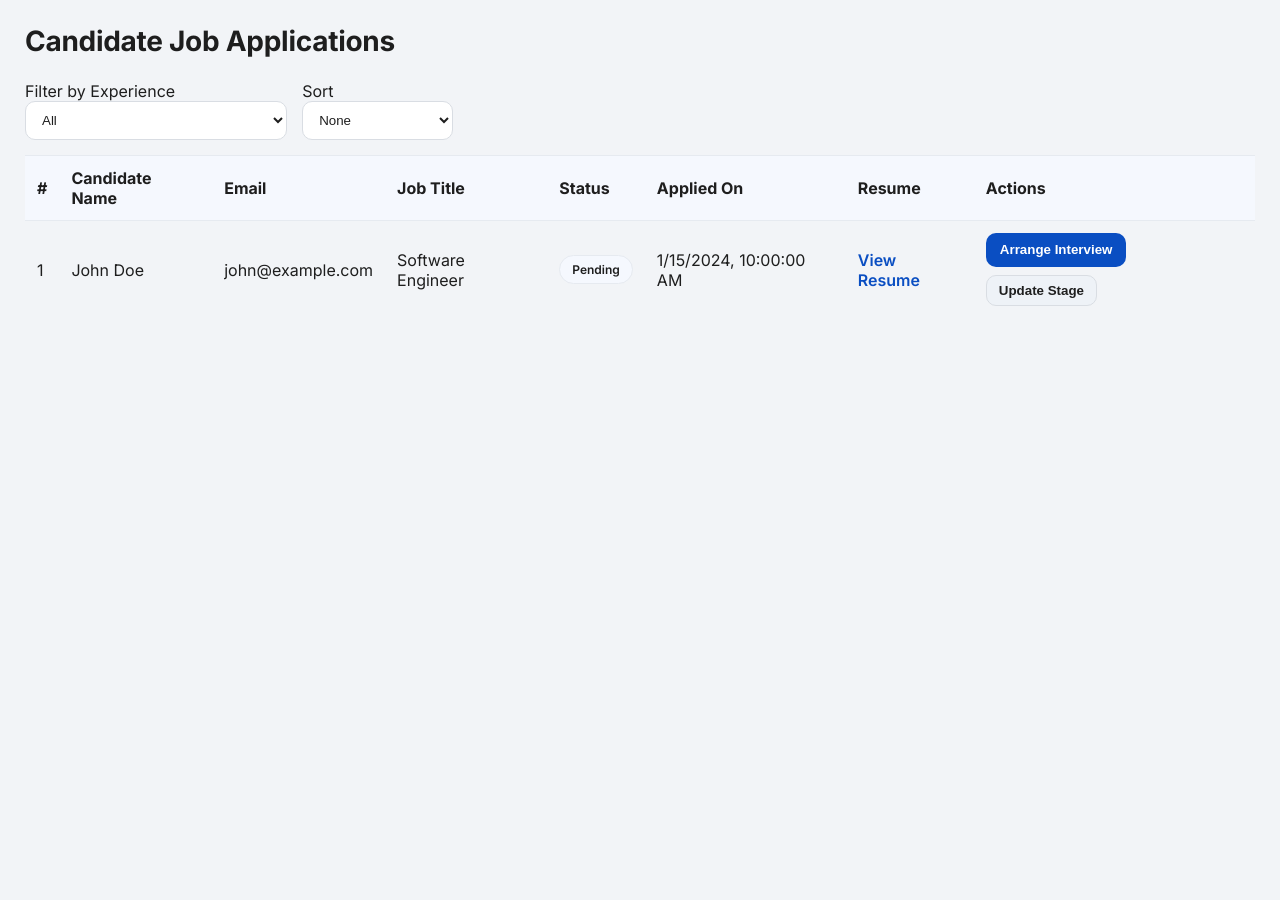
Test case: JobApplications Component › opens schedule interview modal
This screenshot has width=1280, height=900.
Click the button "Arrange Interview".
click(1056, 250)  # box left=986, top=233, right=1126, bottom=266
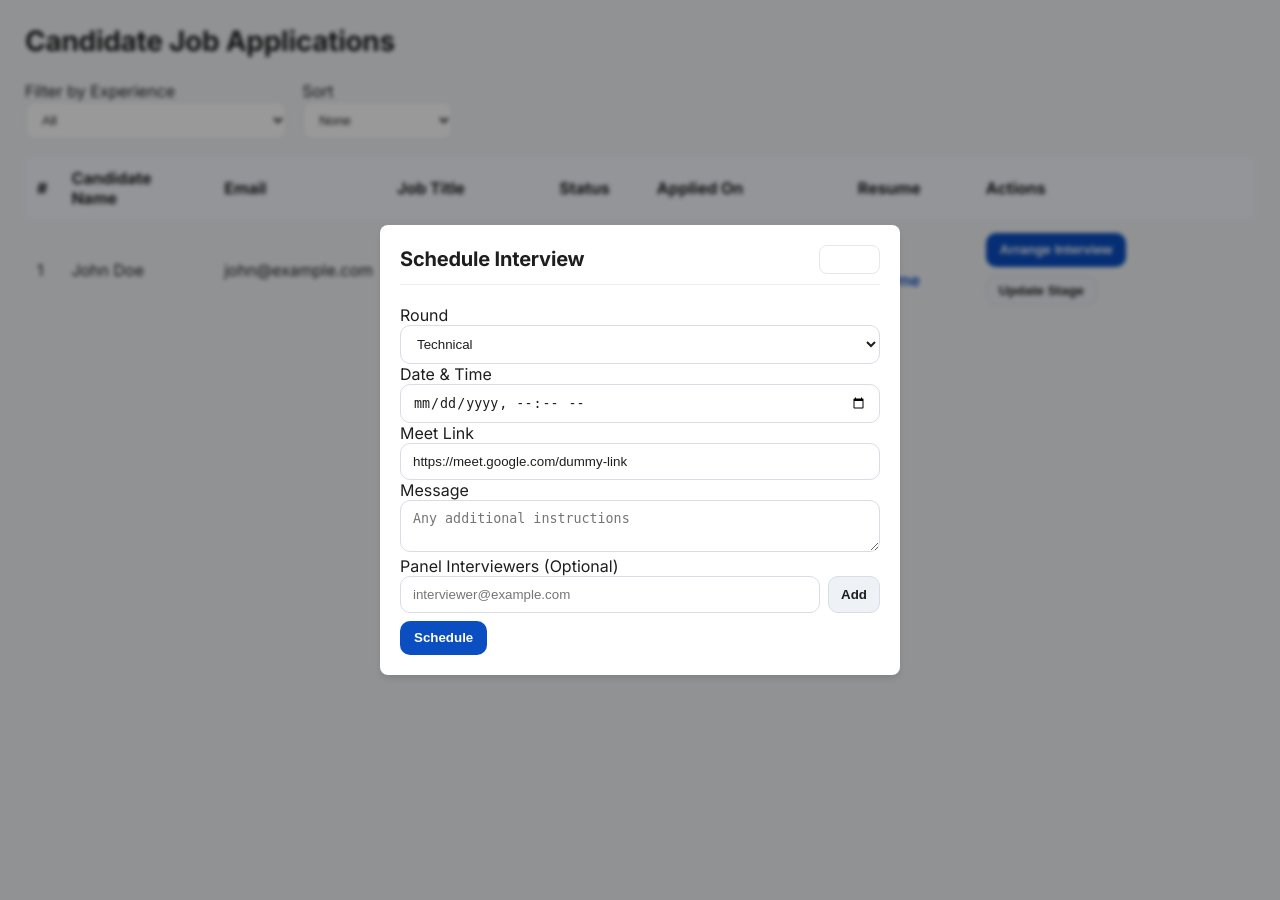
Check: the heading "Schedule Interview" is shown, box left=400, top=247, right=584, bottom=272
